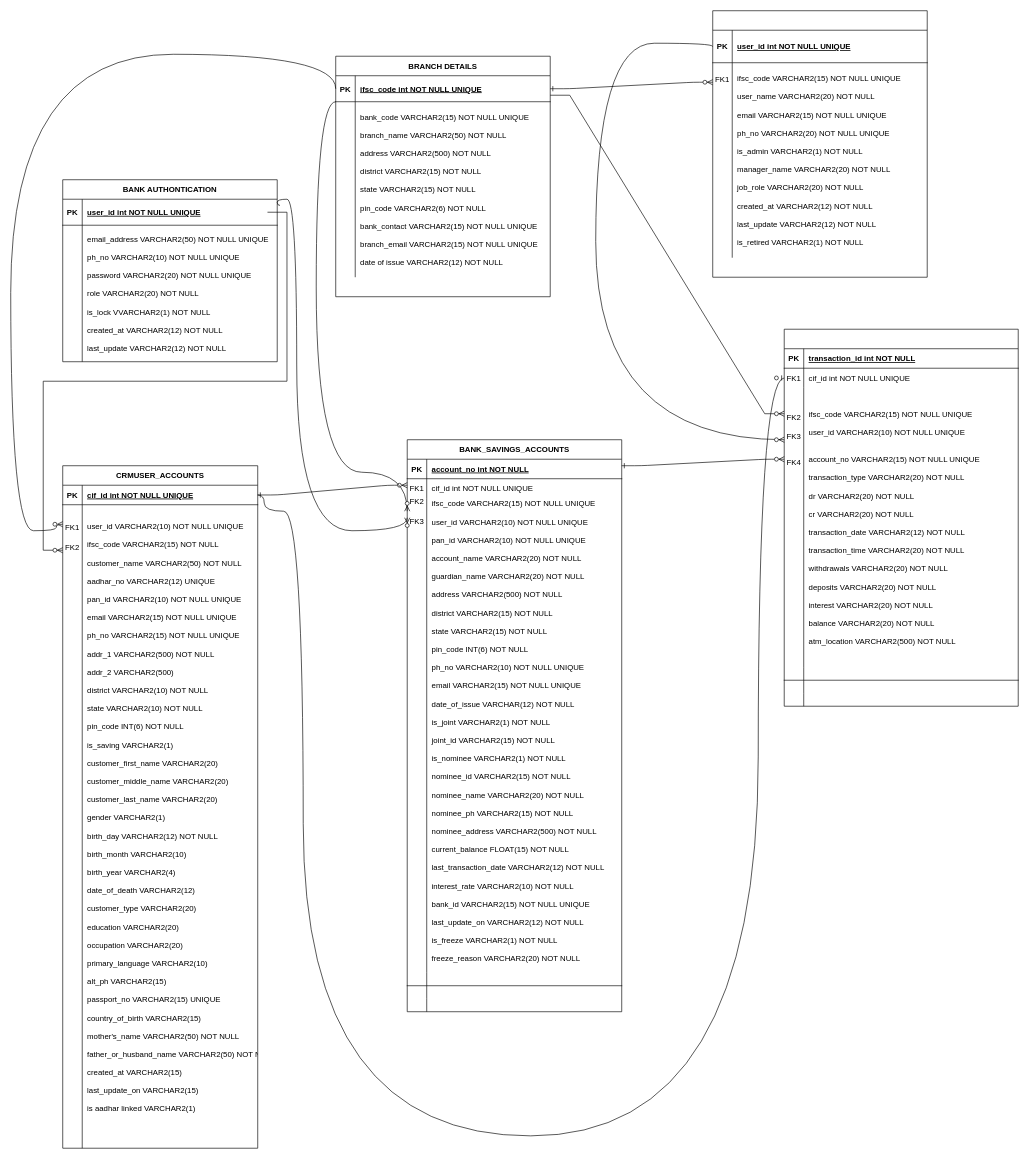
The diagram is 1029 pixels wide and 1159 high, and some of its shapes have lost their labels. Here are the shapes that lost their labels. From the top down, the box of each, then its label:
(712, 10, 927, 277): CRMUSERS_EMPLOYEE
(784, 329, 1018, 706): SAVINGS_ACCOUNTS_TRANSACTION
